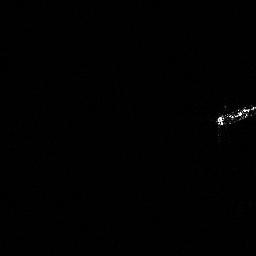ship: (212, 102, 256, 130)
